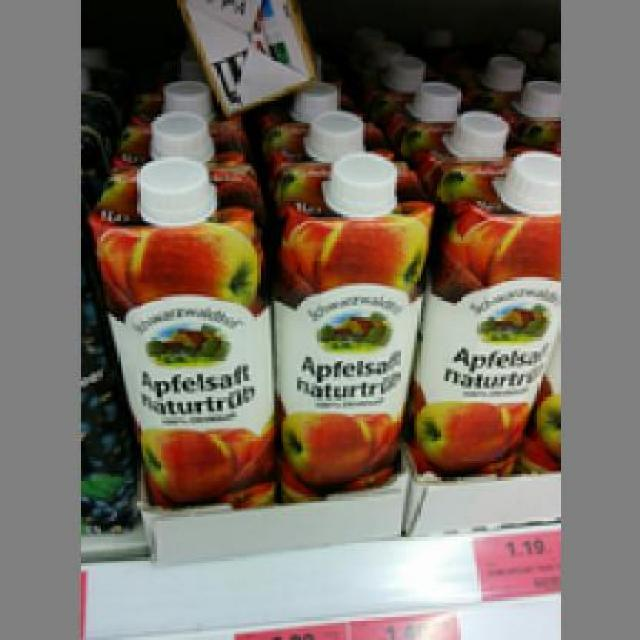Juice: (89, 154, 278, 503), (268, 148, 432, 498), (412, 148, 558, 468)
